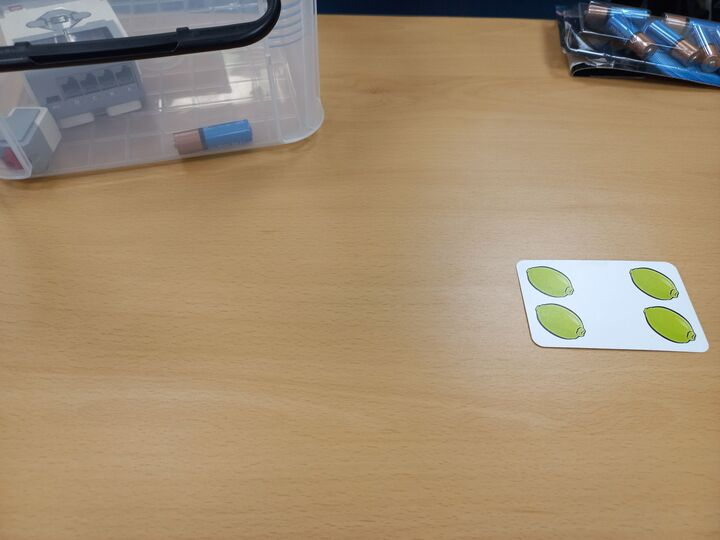lime4: (513, 253, 712, 356)
